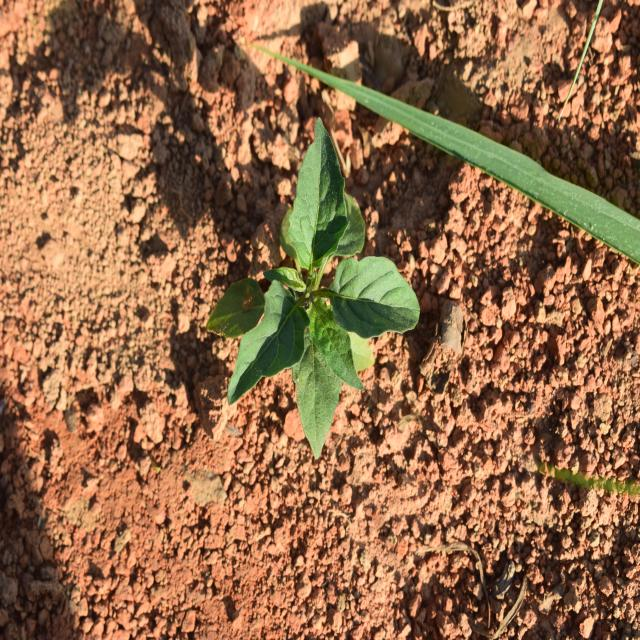Black_nightshade: (218, 124, 412, 423)
